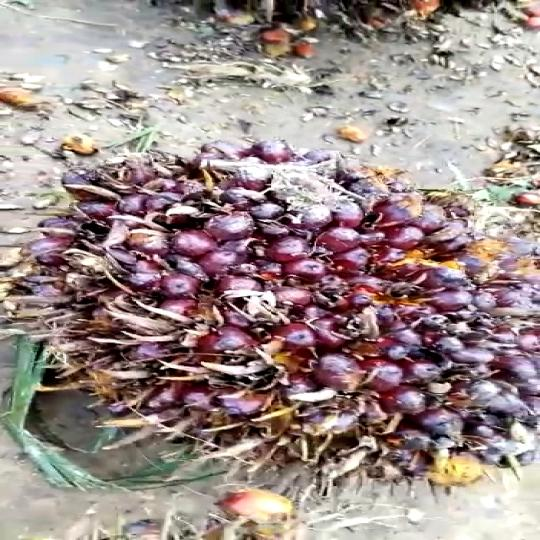masak: (4, 135, 540, 491)
